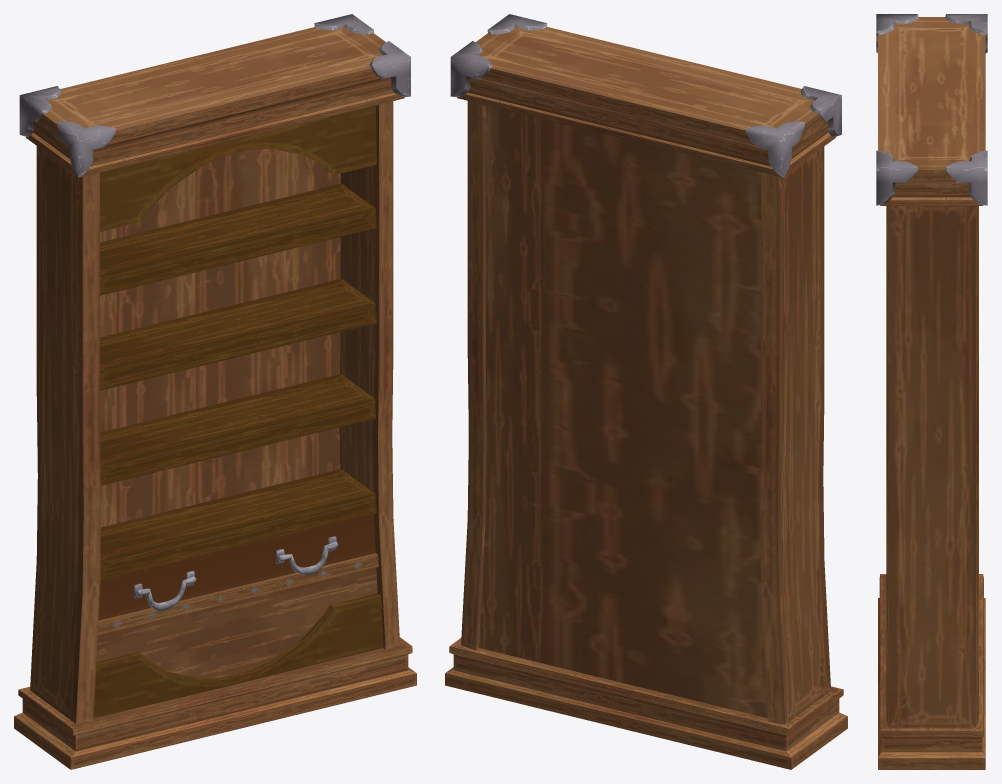
File: bookcase-2.glb
The picture shows the model from 3 angles, left to right: view 1: azimuth 30°, elevation 25°; view 2: azimuth 150°, elevation 25°; view 3: azimuth 270°, elevation 25°; orthographic projection. The views are drawn at different scales.
Parts seen in each view (by area): view 1: Bookcase_2; view 2: Bookcase_2; view 3: Bookcase_2.
Part boxes in pixels (x1,y1,x2,y2): Bookcase_2: (14,14,416,769); Bookcase_2: (445,14,847,769); Bookcase_2: (876,14,987,769).
Size of the model in its own units: 1.46 by 2.54 by 0.429.
2 materials, 2 textured.
